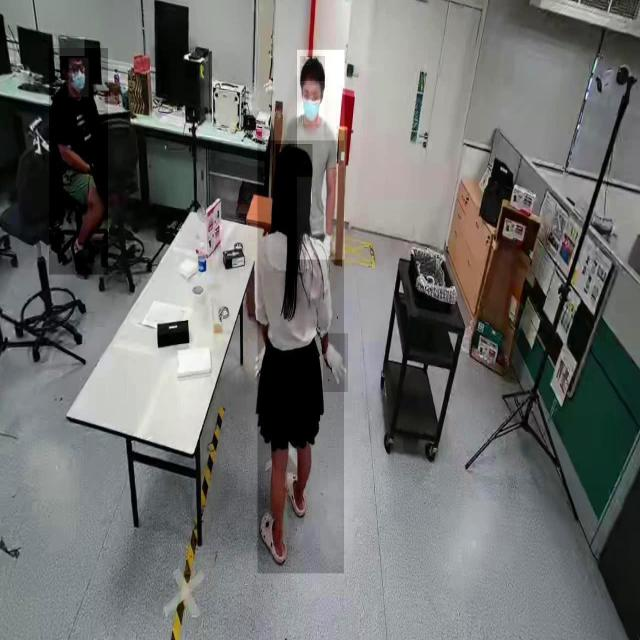face_mask: (302, 86, 324, 124), (69, 58, 89, 98)
hand_glove: (323, 333, 349, 393)
head_nohelmet: (275, 144, 313, 178), (300, 56, 326, 82), (59, 37, 85, 57)
person: (258, 140, 344, 574), (49, 48, 109, 276), (297, 49, 345, 260)
